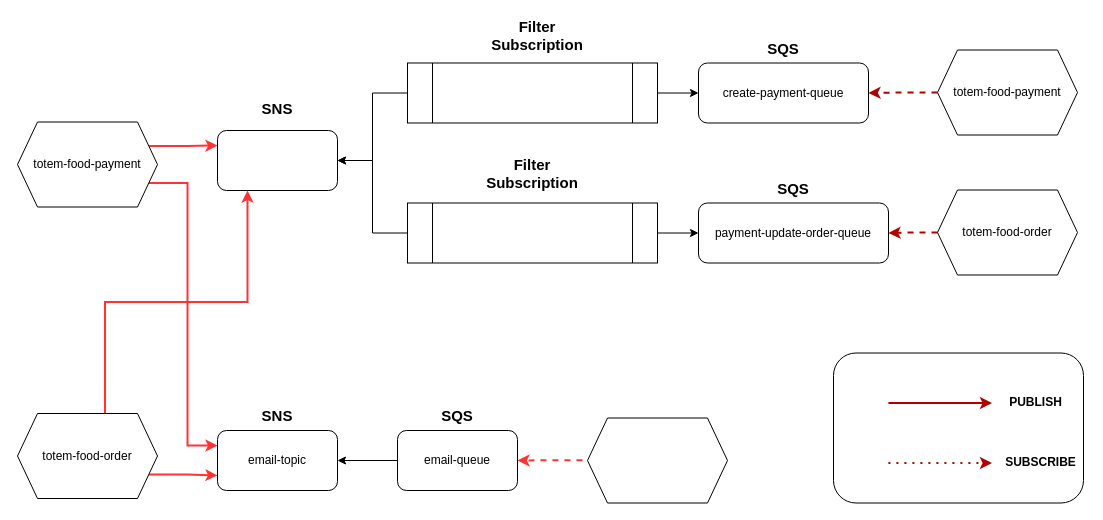
Image size: 1103x520. Some labels were removed from this diagram. Each missing label, with the centre of its shape:
"{ "order": "UPDATE" }": point (532, 232)
payment-topic: point (277, 160)
totem-food-email: point (657, 460)
{ "status": "WAITING_PAYMENT" }": point (532, 92)
